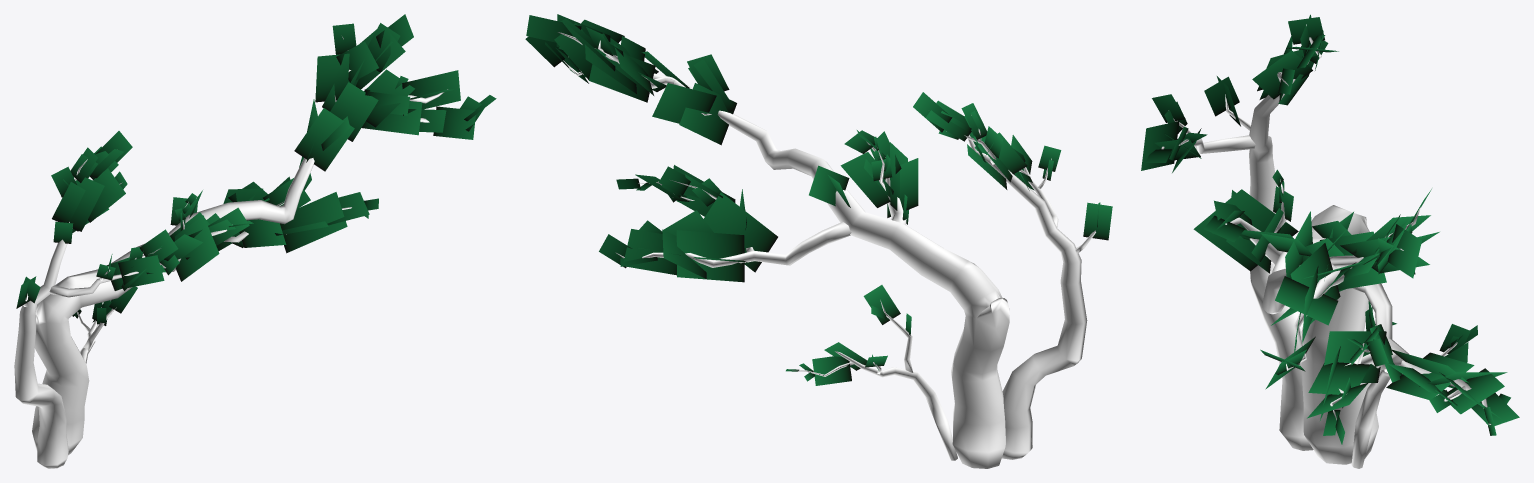
Rendered from SM_TreeWindswept03.fbx.
3 renders of one model, left to right at view 1: azimuth 30°, elevation 25°; view 2: azimuth 150°, elevation 25°; view 3: azimuth 270°, elevation 25°, orthographic. The views are drawn at different scales.
Visible parts, largest first — view 1: SM_TreeWindswept03_LOD0; view 2: SM_TreeWindswept03_LOD0; view 3: SM_TreeWindswept03_LOD0.
Part boxes in pixels (x1=…): SM_TreeWindswept03_LOD0: x1=14, y1=14, x2=496, y2=468; SM_TreeWindswept03_LOD0: x1=525, y1=14, x2=1112, y2=468; SM_TreeWindswept03_LOD0: x1=1141, y1=14, x2=1519, y2=468.
Size of the model in its own units: 1874 by 1188 by 824.
